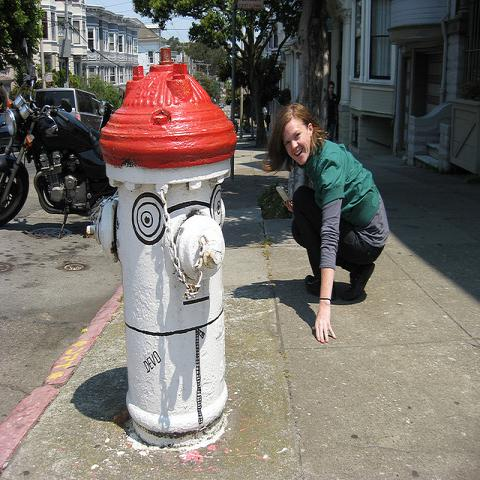car: (34, 88, 103, 132)
motorcycle: (0, 37, 117, 239)
